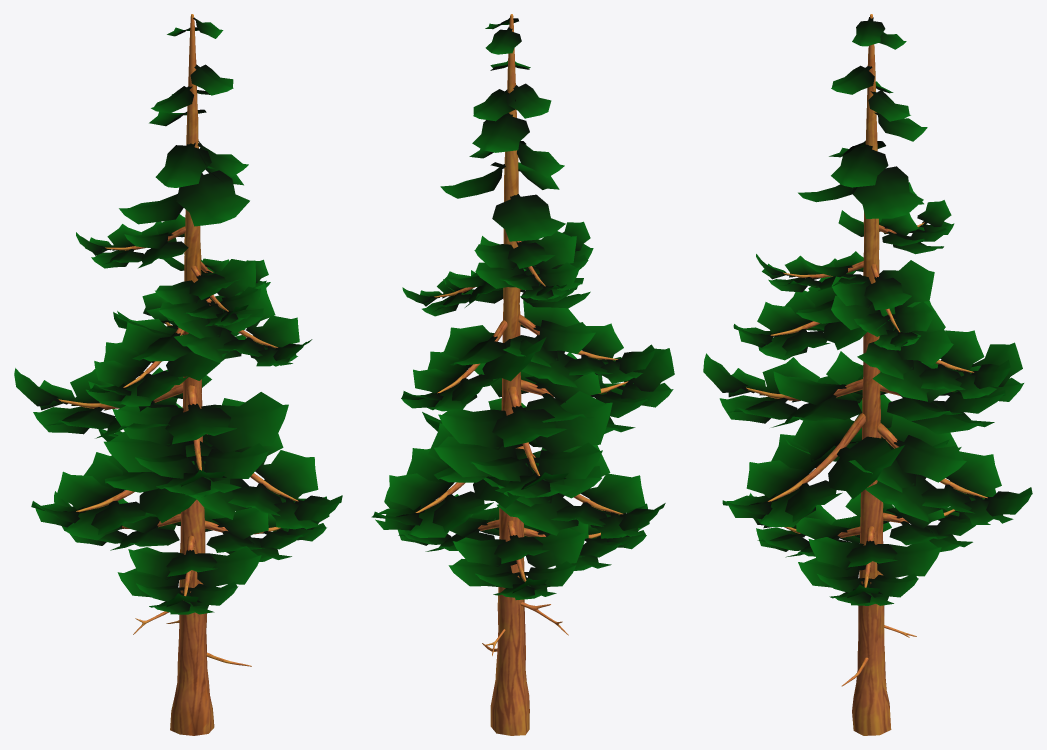
Rendered from tree_1.glb.
3 views of the same model, side by side, from view 1: azimuth 30°, elevation 25°; view 2: azimuth 150°, elevation 25°; view 3: azimuth 270°, elevation 25° (orthographic).
Visible parts, largest first — view 1: stylized_pine_var1; view 2: stylized_pine_var1; view 3: stylized_pine_var1.
Part boxes in pixels (left/top/right/bottom): stylized_pine_var1: left=14, top=14, right=342, bottom=735; stylized_pine_var1: left=371, top=14, right=674, bottom=735; stylized_pine_var1: left=703, top=14, right=1032, bottom=735.
Size of the model in its own units: 5.93 by 14.33 by 6.
Materials: 2 (1 with a texture image).
